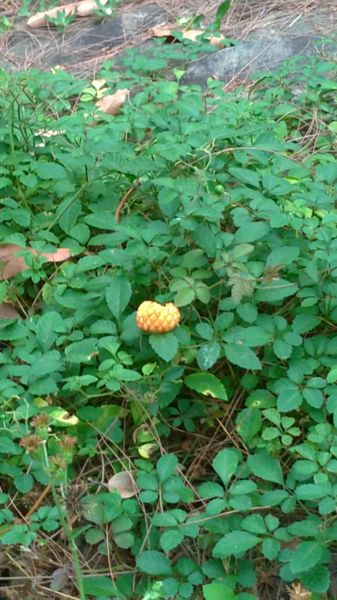eggs: (130, 292, 187, 336)
